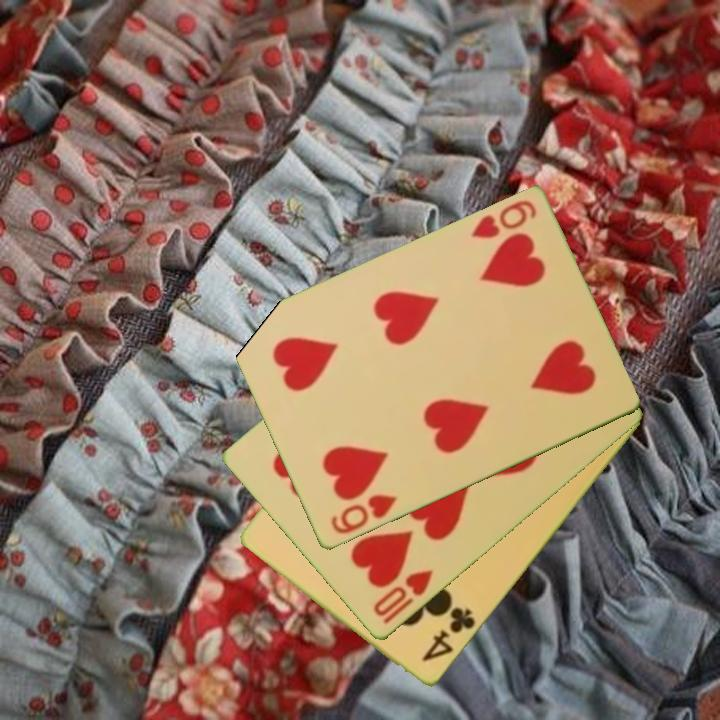10h: (369, 566, 436, 628)
4c: (418, 604, 479, 666)
6h: (327, 491, 400, 538), (467, 197, 540, 243)
